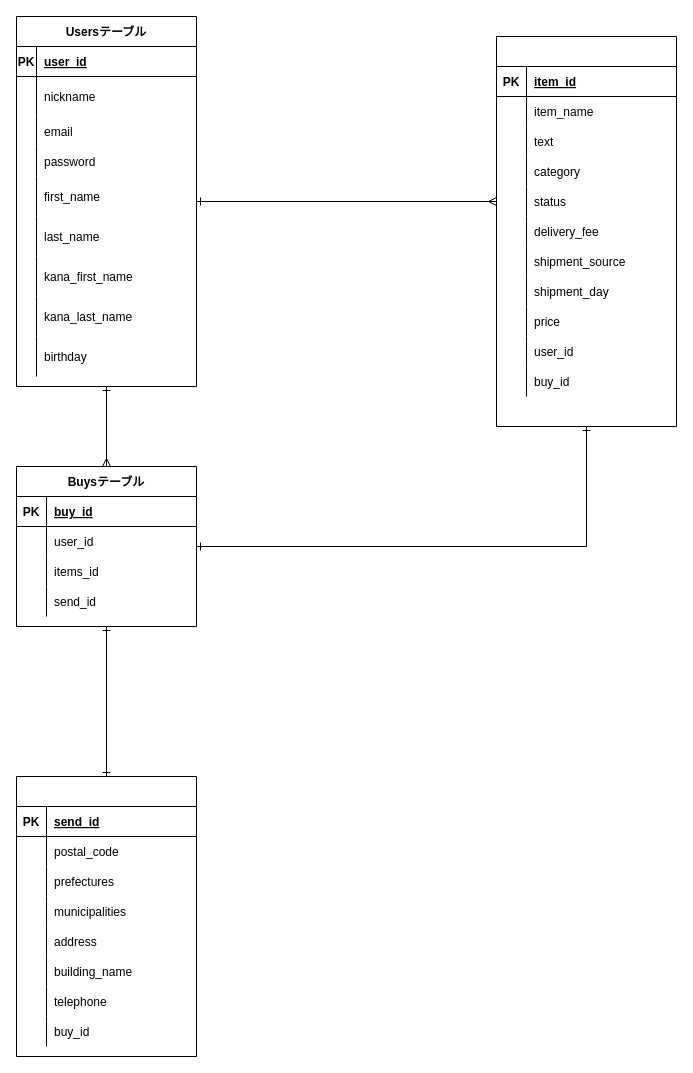
Image size: 693x1073. Some labels were removed from this diagram. Here are the shapes that lost their labels. From the top down, the box of each, then its label:
(496, 36, 676, 426): Itemsテーブル
(16, 776, 196, 1056): Sendsテーブル
